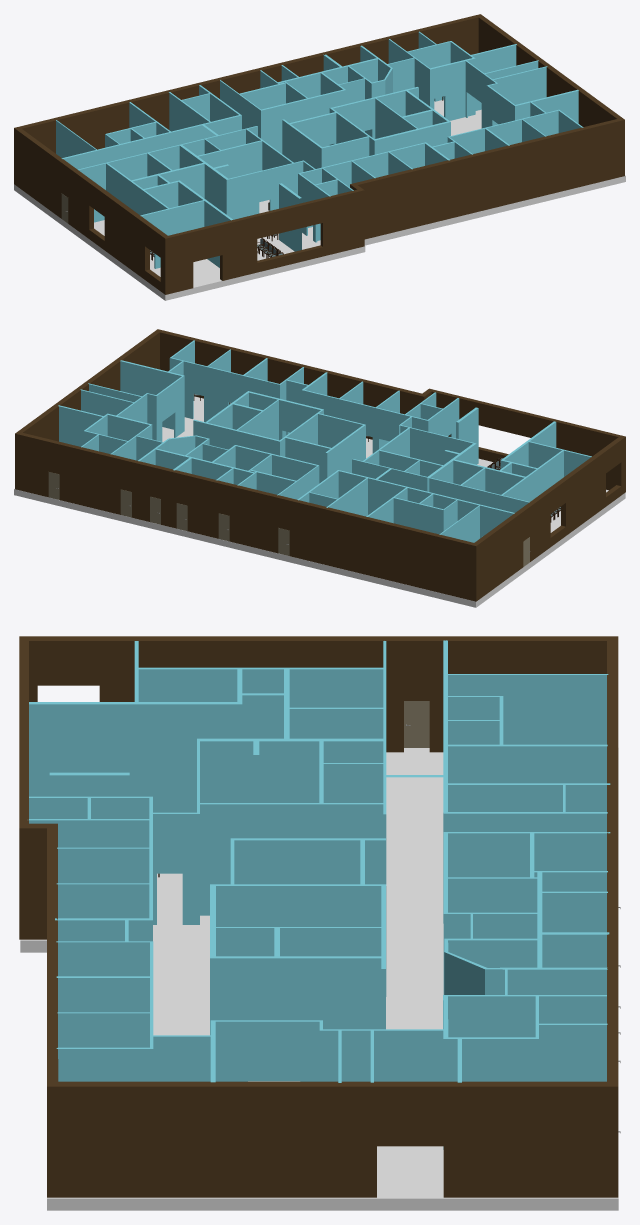
The model's file is Test Hospital.glb.
3 renders of one model, top to bottom at view 1: azimuth 30°, elevation 25°; view 2: azimuth 150°, elevation 25°; view 3: azimuth 270°, elevation 25°, orthographic. The views are drawn at different scales.
Parts seen in each view (by area): view 1: Interior Walls, Exterior Walls, Floor; view 2: Interior Walls, Exterior Walls, Floor; view 3: Interior Walls, Exterior Walls, Floor, Door.006.
Part boxes in pixels (bbox=[...]): Interior Walls: bbox=[56, 31, 583, 268]; Exterior Walls: bbox=[14, 14, 624, 294]; Floor: bbox=[14, 99, 625, 300]; Interior Walls: bbox=[58, 340, 591, 542]; Exterior Walls: bbox=[15, 329, 625, 601]; Floor: bbox=[14, 396, 625, 607]; Interior Walls: bbox=[29, 640, 610, 1149]; Exterior Walls: bbox=[19, 636, 618, 1197]; Floor: bbox=[20, 748, 618, 1210]; Door.006: bbox=[404, 701, 429, 747].
Size of the model in its own units: 53 by 6.74 by 29.8.
